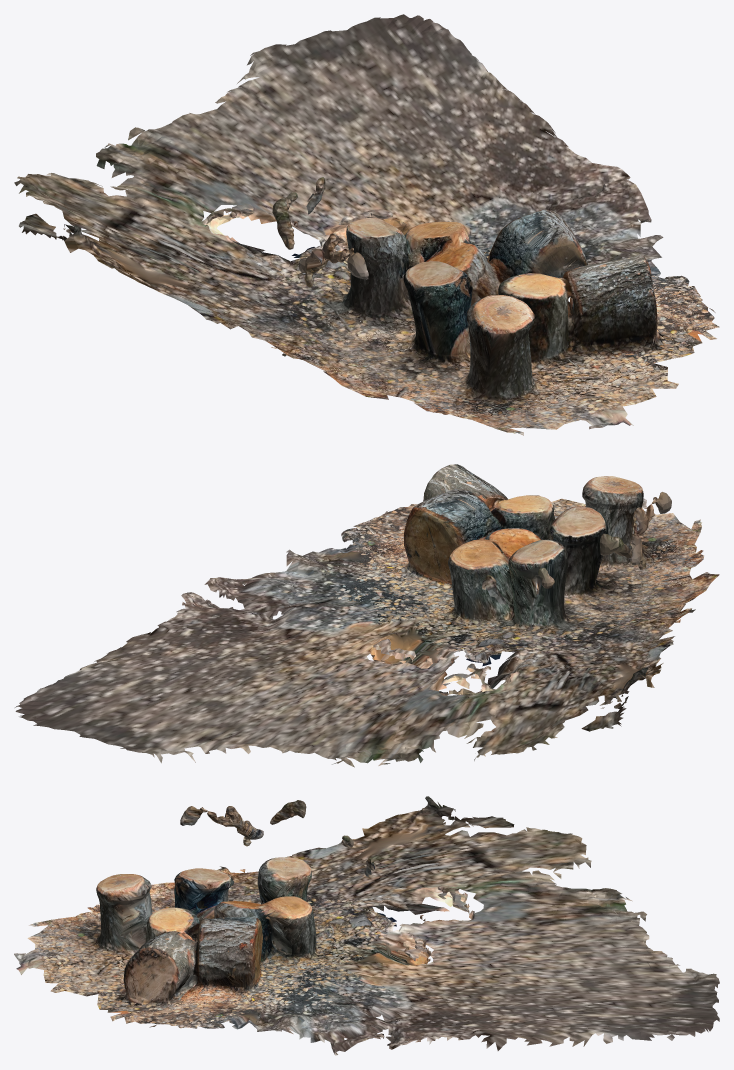
The model's file is metascan_20230505-1158.obj.
The picture shows the model from 3 angles, top to bottom: view 1: azimuth 30°, elevation 25°; view 2: azimuth 150°, elevation 25°; view 3: azimuth 270°, elevation 25°; orthographic projection. The views are drawn at different scales.
Parts seen in each view (by area): view 1: mesh_0; view 2: mesh_0; view 3: mesh_0.
Part boxes in pixels (x1,y1,x2,y2): mesh_0: (14, 14, 719, 435); mesh_0: (15, 464, 719, 767); mesh_0: (14, 796, 719, 1055).
Size of the model in its own units: 3.45 by 0.844 by 4.94.
1 material, 1 textured.
